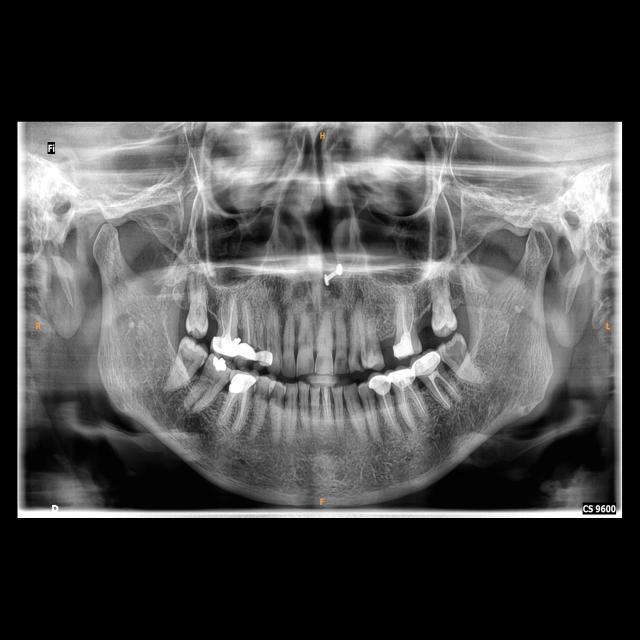dentin-curugu: (447, 340, 465, 360), (336, 354, 348, 374), (352, 347, 362, 369), (266, 392, 279, 402)
dolgu: (205, 353, 230, 372)
kanal-tedavisi: (221, 393, 247, 428), (399, 384, 422, 422), (430, 376, 458, 406), (217, 298, 235, 336), (382, 396, 398, 431), (400, 302, 418, 332), (243, 301, 253, 346)
kaplama: (410, 350, 440, 374), (213, 332, 239, 355), (229, 372, 255, 393), (392, 333, 413, 357), (390, 366, 413, 387), (236, 344, 260, 364), (372, 372, 392, 396), (256, 351, 274, 367)
kok-enfeksiyonu: (176, 394, 206, 441)
